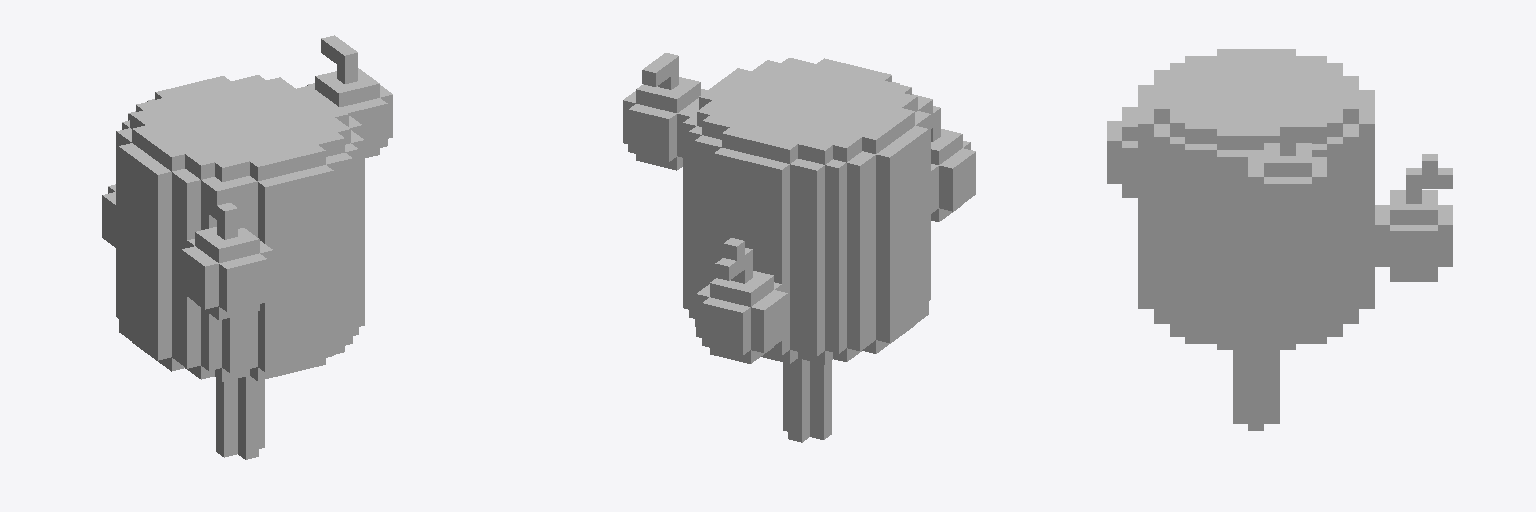
File: tree.obj
The picture shows the model from 3 angles: view 1: azimuth 30°, elevation 25°; view 2: azimuth 150°, elevation 25°; view 3: azimuth 270°, elevation 25°; orthographic projection.
Visible parts, largest first — view 1: object 1; view 2: object 1; view 3: object 1.
Boxes of the visible parts, x1=… form: object 1: x1=102, y1=35, x2=392, y2=459; object 1: x1=623, y1=53, x2=975, y2=442; object 1: x1=1107, y1=49, x2=1452, y2=430.
Bounding box in the file's own units: 1.9 × 2.5 × 2.2.